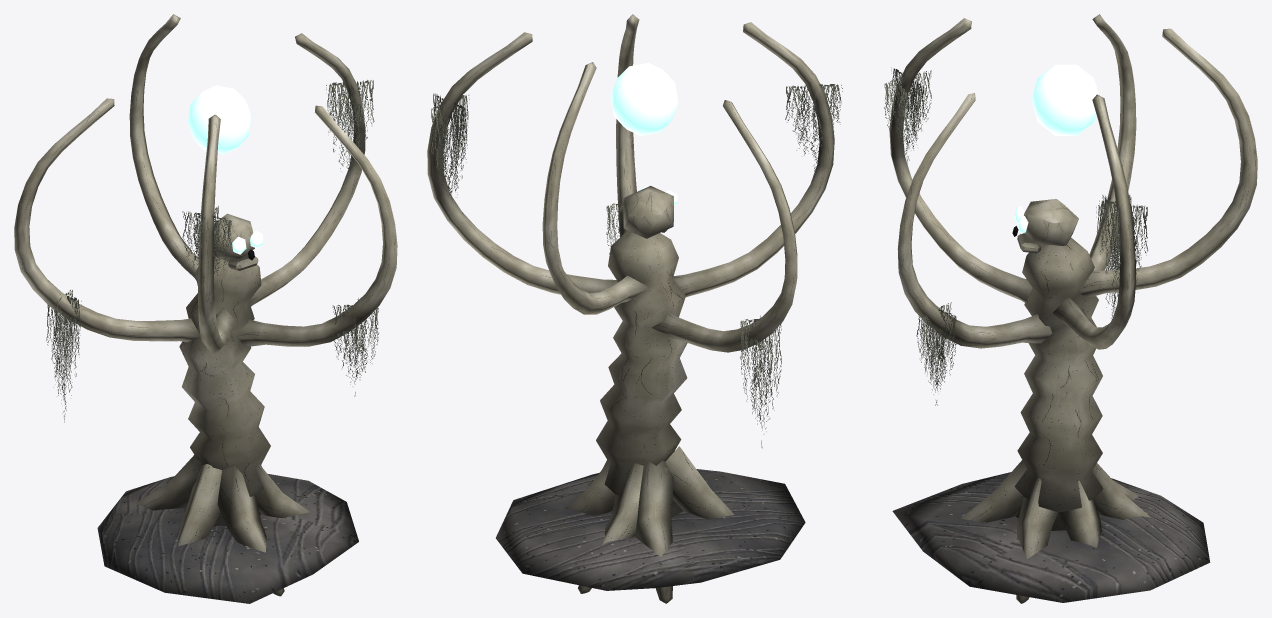
The model's file is helheim_bone_tree_b_lod1.glb.
3 views of the same model, side by side, from view 1: azimuth 30°, elevation 25°; view 2: azimuth 150°, elevation 25°; view 3: azimuth 270°, elevation 25° (orthographic). The views are drawn at different scales.
Visible parts, largest first — view 1: helheim_bone_tree_b_lod1; view 2: helheim_bone_tree_b_lod1; view 3: helheim_bone_tree_b_lod1.
Part boxes in pixels (x1,y1,x2,y2): helheim_bone_tree_b_lod1: [14, 14, 397, 603]; helheim_bone_tree_b_lod1: [427, 14, 842, 603]; helheim_bone_tree_b_lod1: [884, 14, 1257, 603].
Size of the model in its own units: 2.53 by 3.4 by 2.19.
5 materials, 3 textured.
